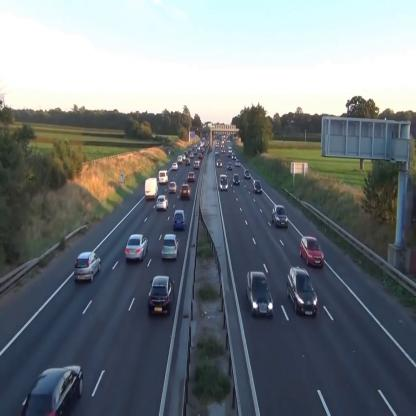car: (20, 364, 83, 416), (287, 266, 318, 316), (246, 272, 274, 318), (148, 276, 175, 318), (74, 252, 101, 283), (299, 236, 324, 267), (126, 234, 148, 262), (162, 235, 180, 261), (272, 205, 288, 229), (173, 210, 186, 230), (180, 184, 191, 200), (156, 196, 168, 210), (253, 180, 262, 194), (169, 181, 177, 193), (233, 173, 240, 185), (187, 172, 194, 182), (244, 169, 251, 179)
lorry: (145, 177, 158, 199), (219, 174, 229, 191), (158, 169, 169, 184)
